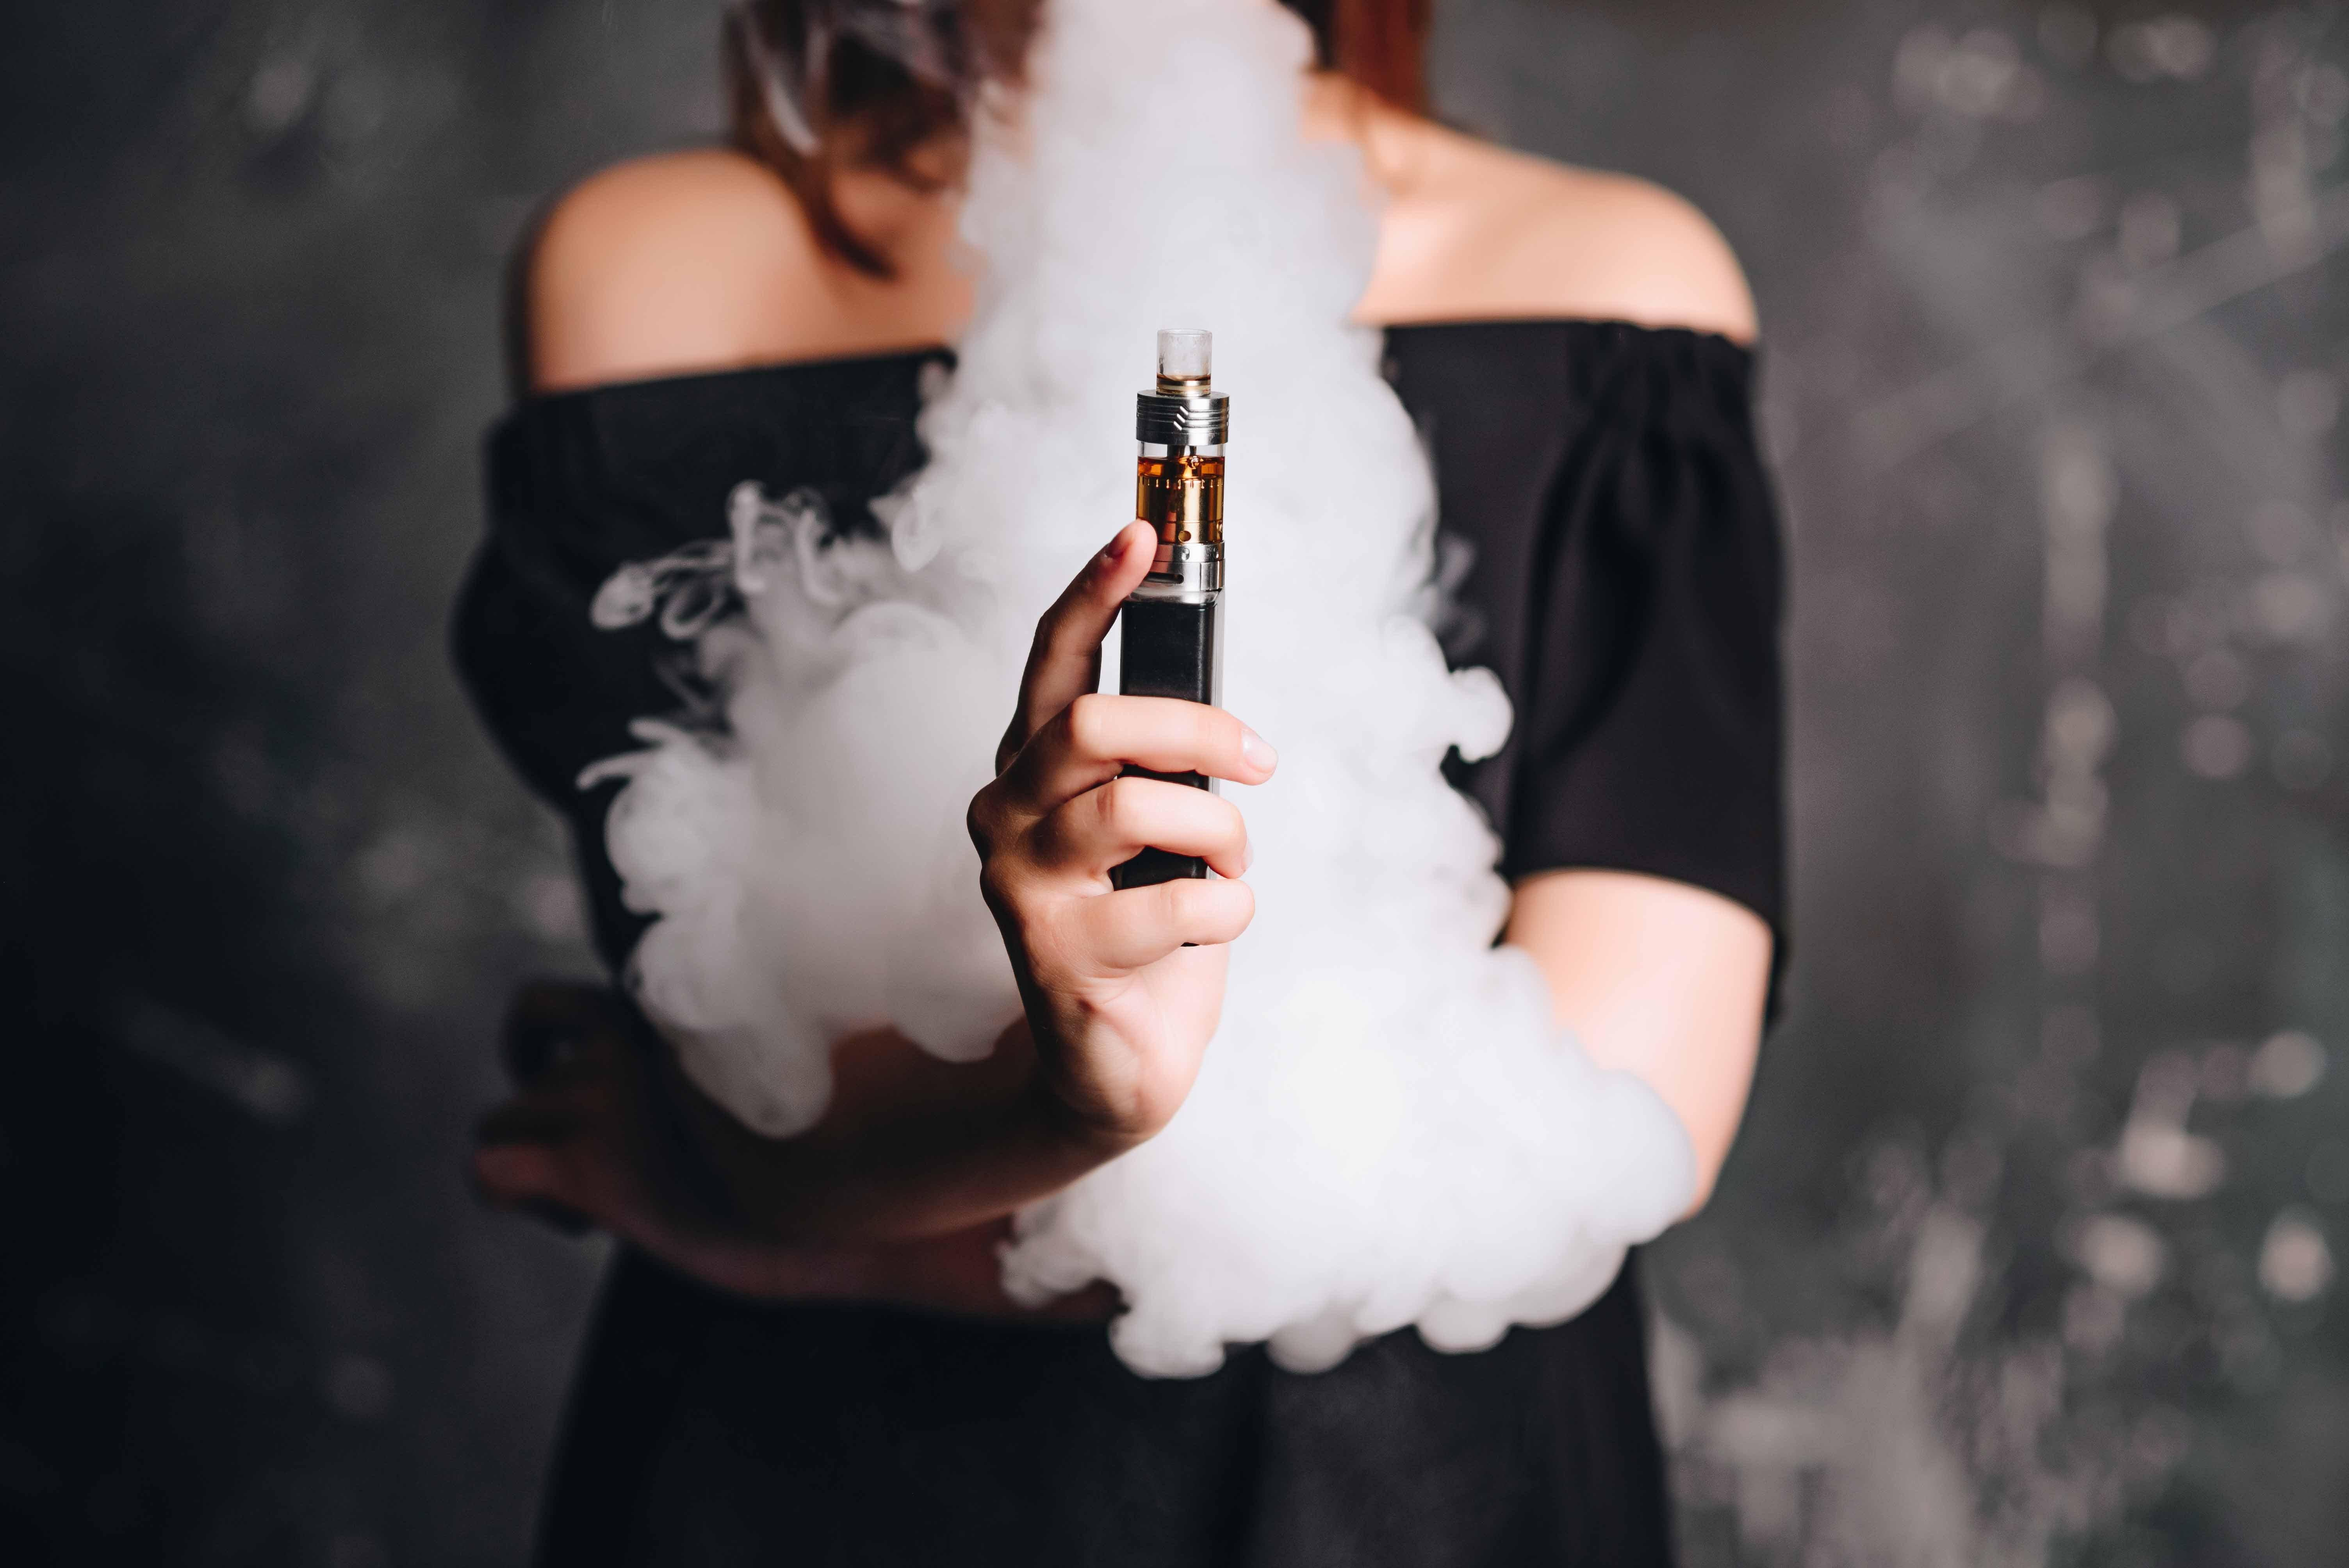Vape: (1110, 324, 1232, 891)
